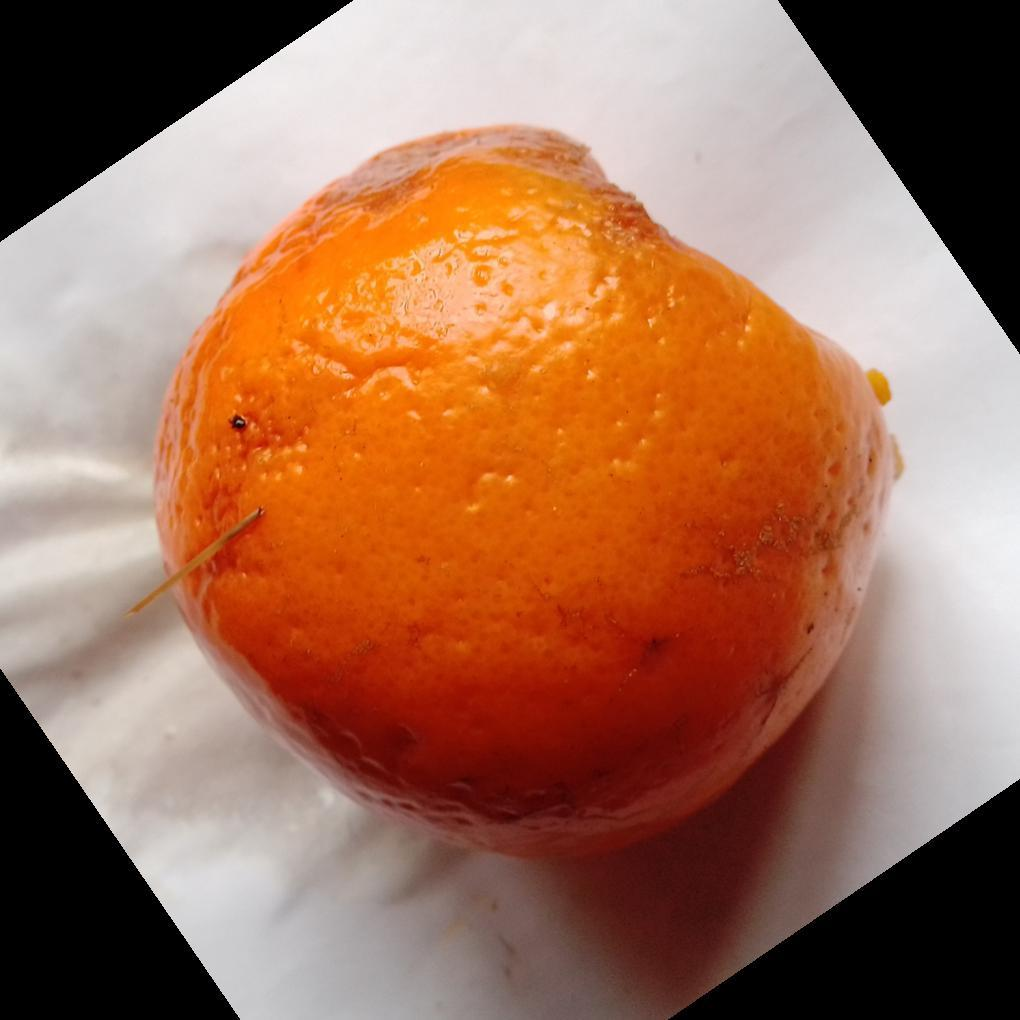FreshOrange: (150, 125, 905, 866)
